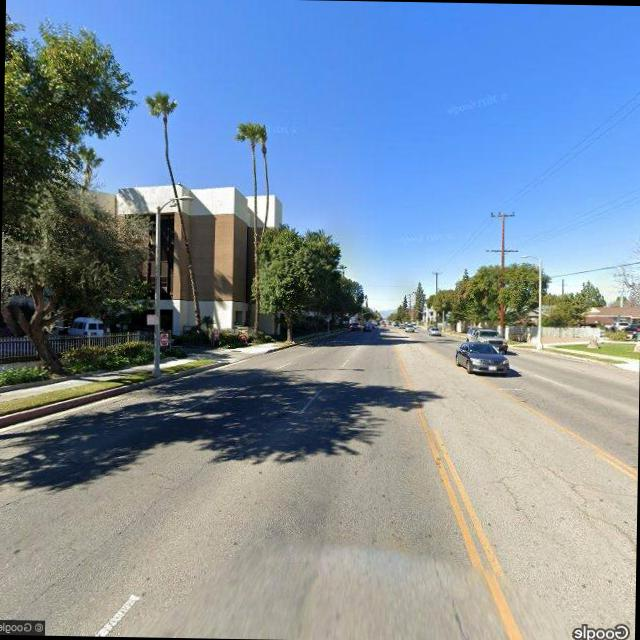crack: (497, 433, 623, 535), (496, 476, 536, 522)
